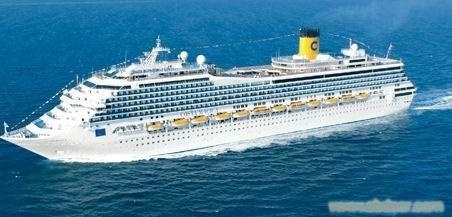youlun: (1, 21, 417, 165)
